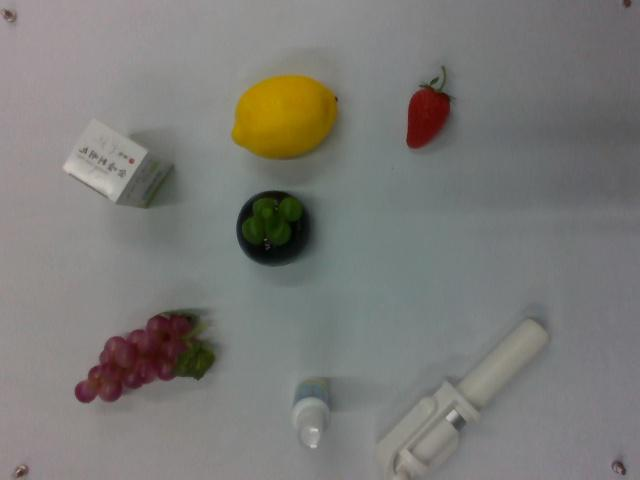carton: (62, 121, 174, 213)
detergent: (290, 377, 335, 451)
grape: (73, 307, 215, 407)
lemon: (230, 77, 344, 162)
mangosteen: (237, 191, 311, 268)
selfiestick: (371, 316, 554, 478)
strawberry: (402, 63, 456, 151)
